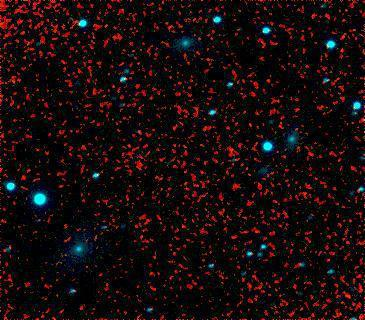star: (253, 65, 283, 95)
